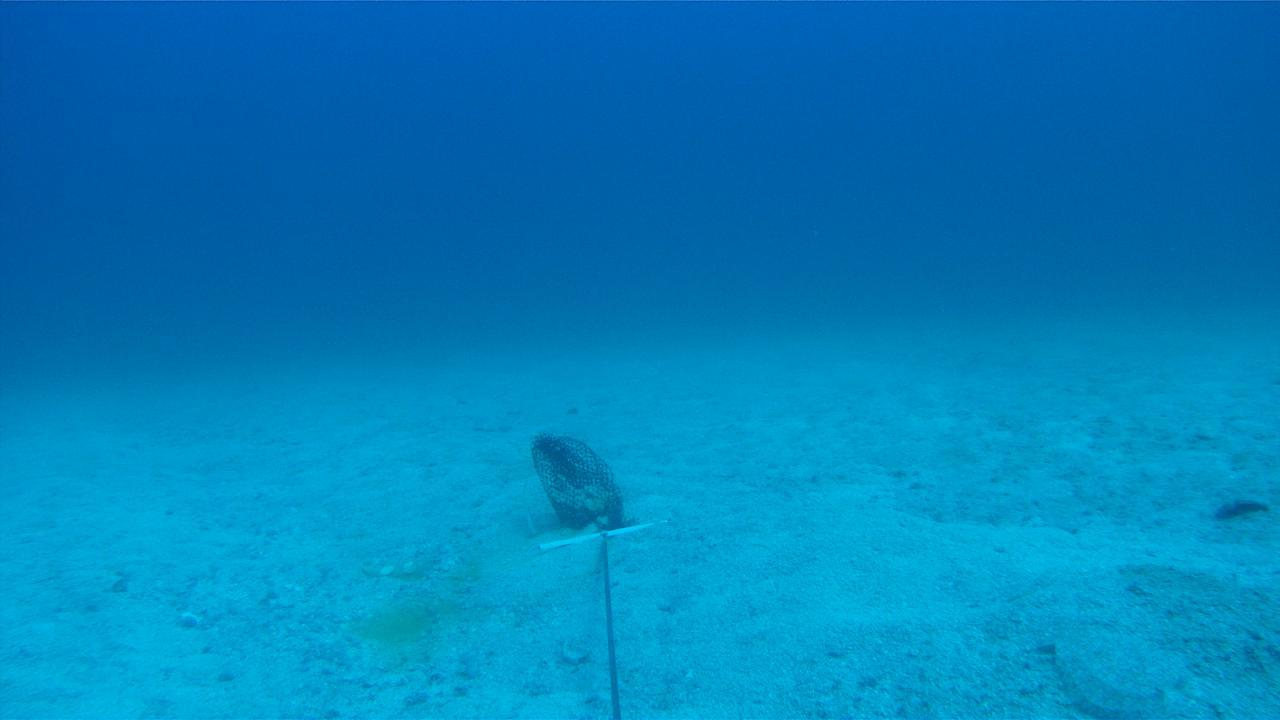bothus: (1036, 622, 1210, 719)
